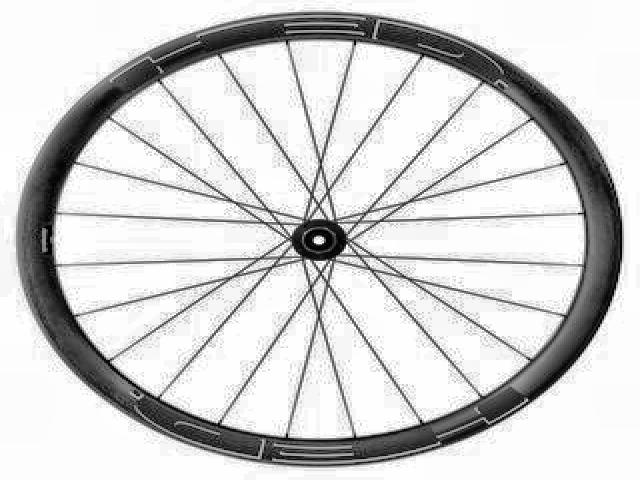wheel: (16, 12, 624, 466)
